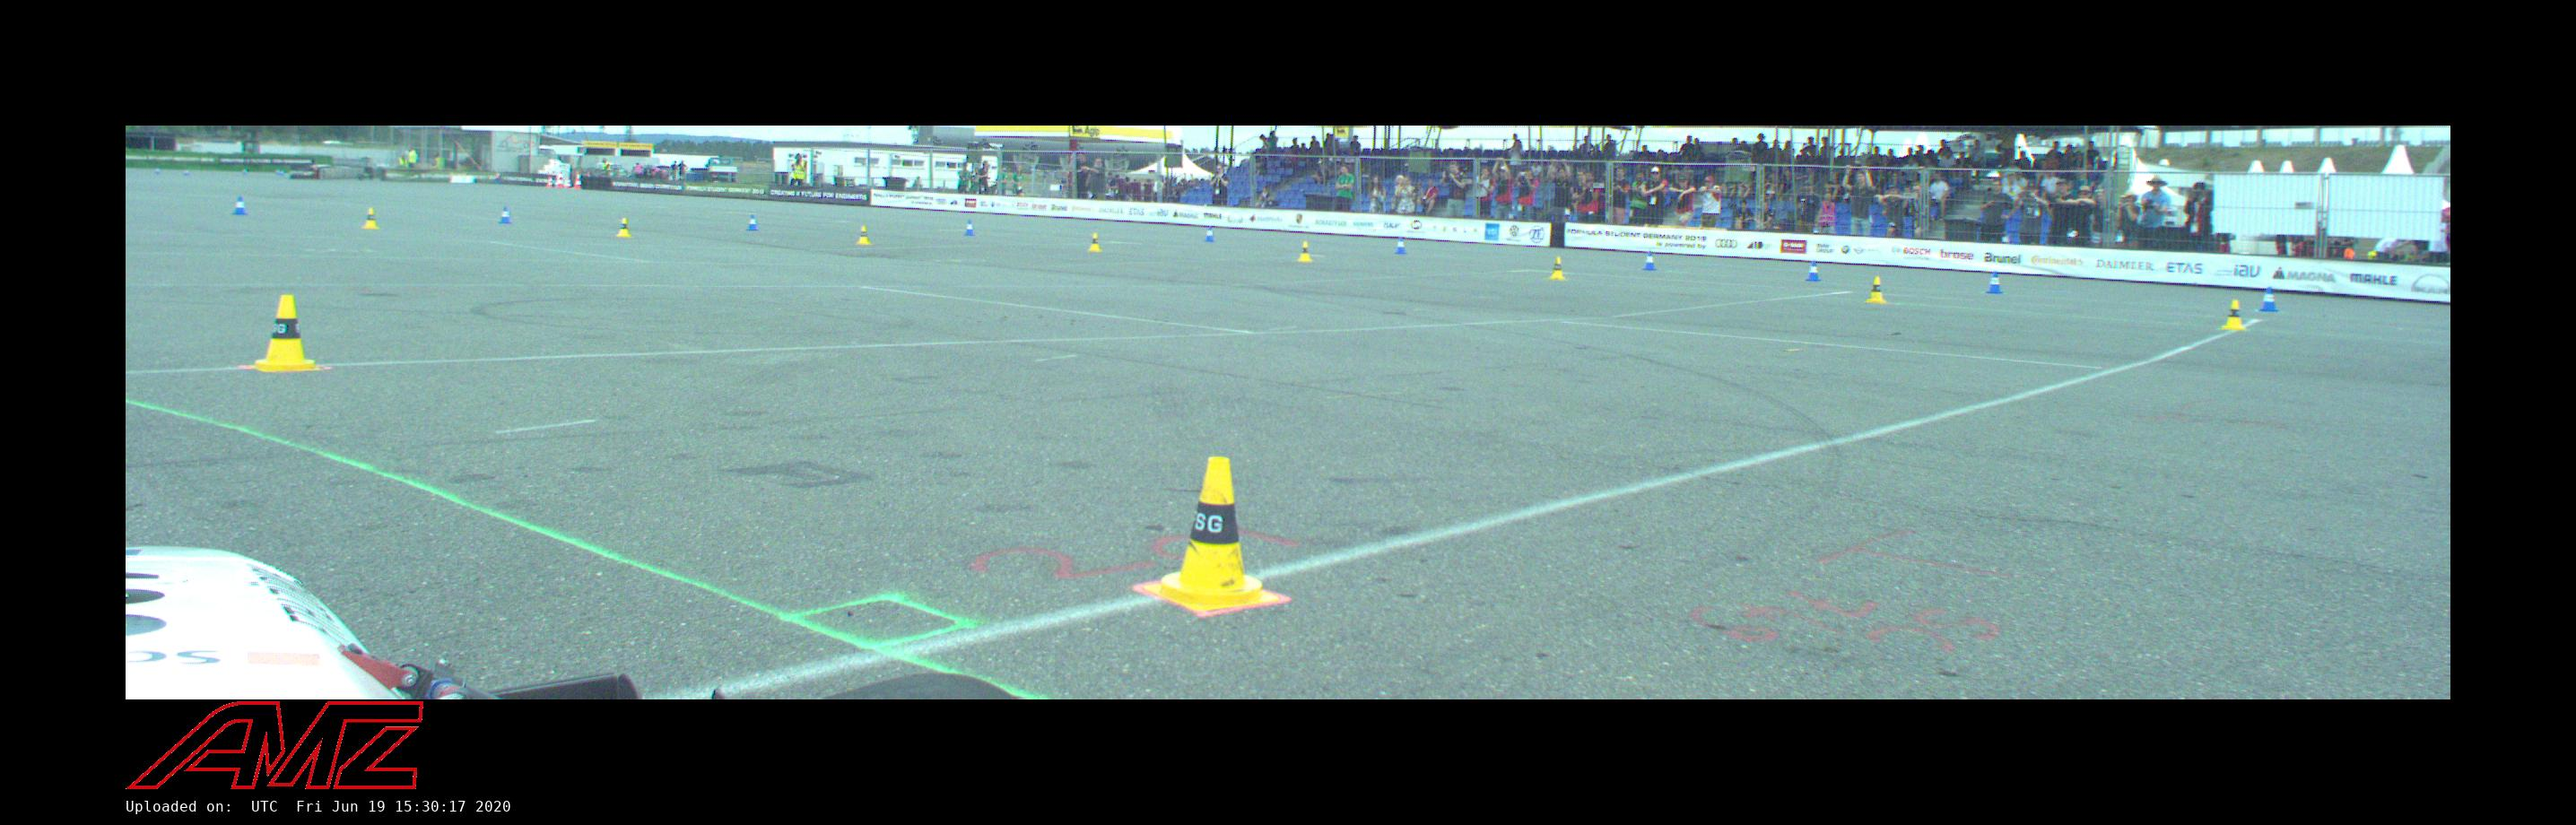blue_cone: (2257, 286, 2277, 311), (1804, 260, 1820, 281), (1986, 273, 2001, 293), (1641, 251, 1656, 271), (233, 196, 246, 214), (1393, 238, 1406, 253), (746, 215, 759, 230), (499, 207, 511, 224), (963, 220, 974, 235), (1204, 227, 1214, 242), (184, 169, 189, 174), (156, 168, 159, 173)
yellow_cone: (1143, 457, 1281, 611), (250, 296, 319, 371), (2219, 299, 2244, 330), (1866, 276, 1884, 302), (1548, 256, 1566, 279), (361, 209, 378, 228), (616, 219, 631, 237), (1298, 242, 1311, 261), (856, 227, 871, 243), (1089, 233, 1099, 251)
